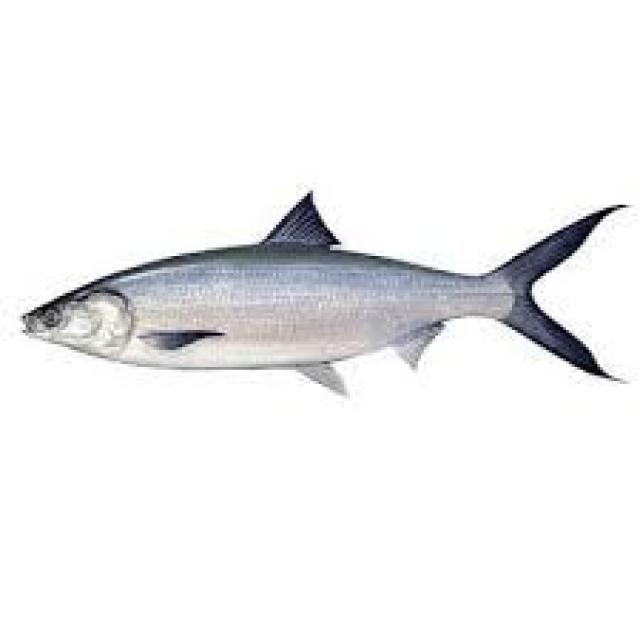Bangus: (0, 159, 640, 458)
